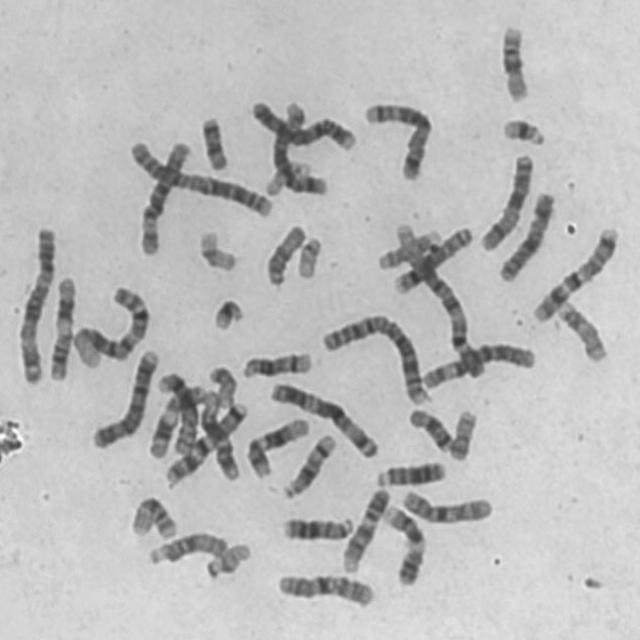A1: (386, 219, 488, 382), (67, 280, 151, 370)
A2: (123, 133, 274, 219), (316, 308, 432, 407)
A3: (264, 376, 381, 461), (11, 218, 59, 386)
B4: (86, 342, 161, 451), (246, 93, 360, 153)
B5: (358, 95, 433, 182), (268, 103, 330, 198)
C10: (272, 566, 376, 610), (396, 483, 494, 526)
C11: (150, 382, 206, 459), (43, 270, 77, 382)
C12: (242, 410, 312, 480), (195, 390, 242, 483)
C6: (134, 134, 194, 257), (416, 335, 538, 392)
C7: (526, 221, 622, 324), (160, 396, 250, 488)
C8: (390, 220, 474, 296), (158, 372, 200, 455)
C9: (336, 483, 392, 574), (376, 498, 426, 588)
D13: (276, 509, 356, 544), (370, 455, 448, 488)
D14: (278, 428, 338, 500), (237, 346, 314, 380)
D15: (142, 526, 228, 568), (260, 218, 308, 287)
E16: (495, 17, 532, 103), (125, 491, 179, 542)
E17: (550, 293, 610, 365), (372, 222, 442, 272)
E18: (402, 403, 453, 454), (194, 110, 230, 172)
F19: (192, 223, 240, 274), (260, 155, 310, 196)
F20: (444, 404, 478, 463), (204, 360, 238, 410)
G21: (496, 112, 548, 147), (208, 292, 246, 332)
G22: (200, 537, 253, 582), (292, 230, 324, 282)
X: (474, 146, 536, 252), (493, 185, 557, 284)
